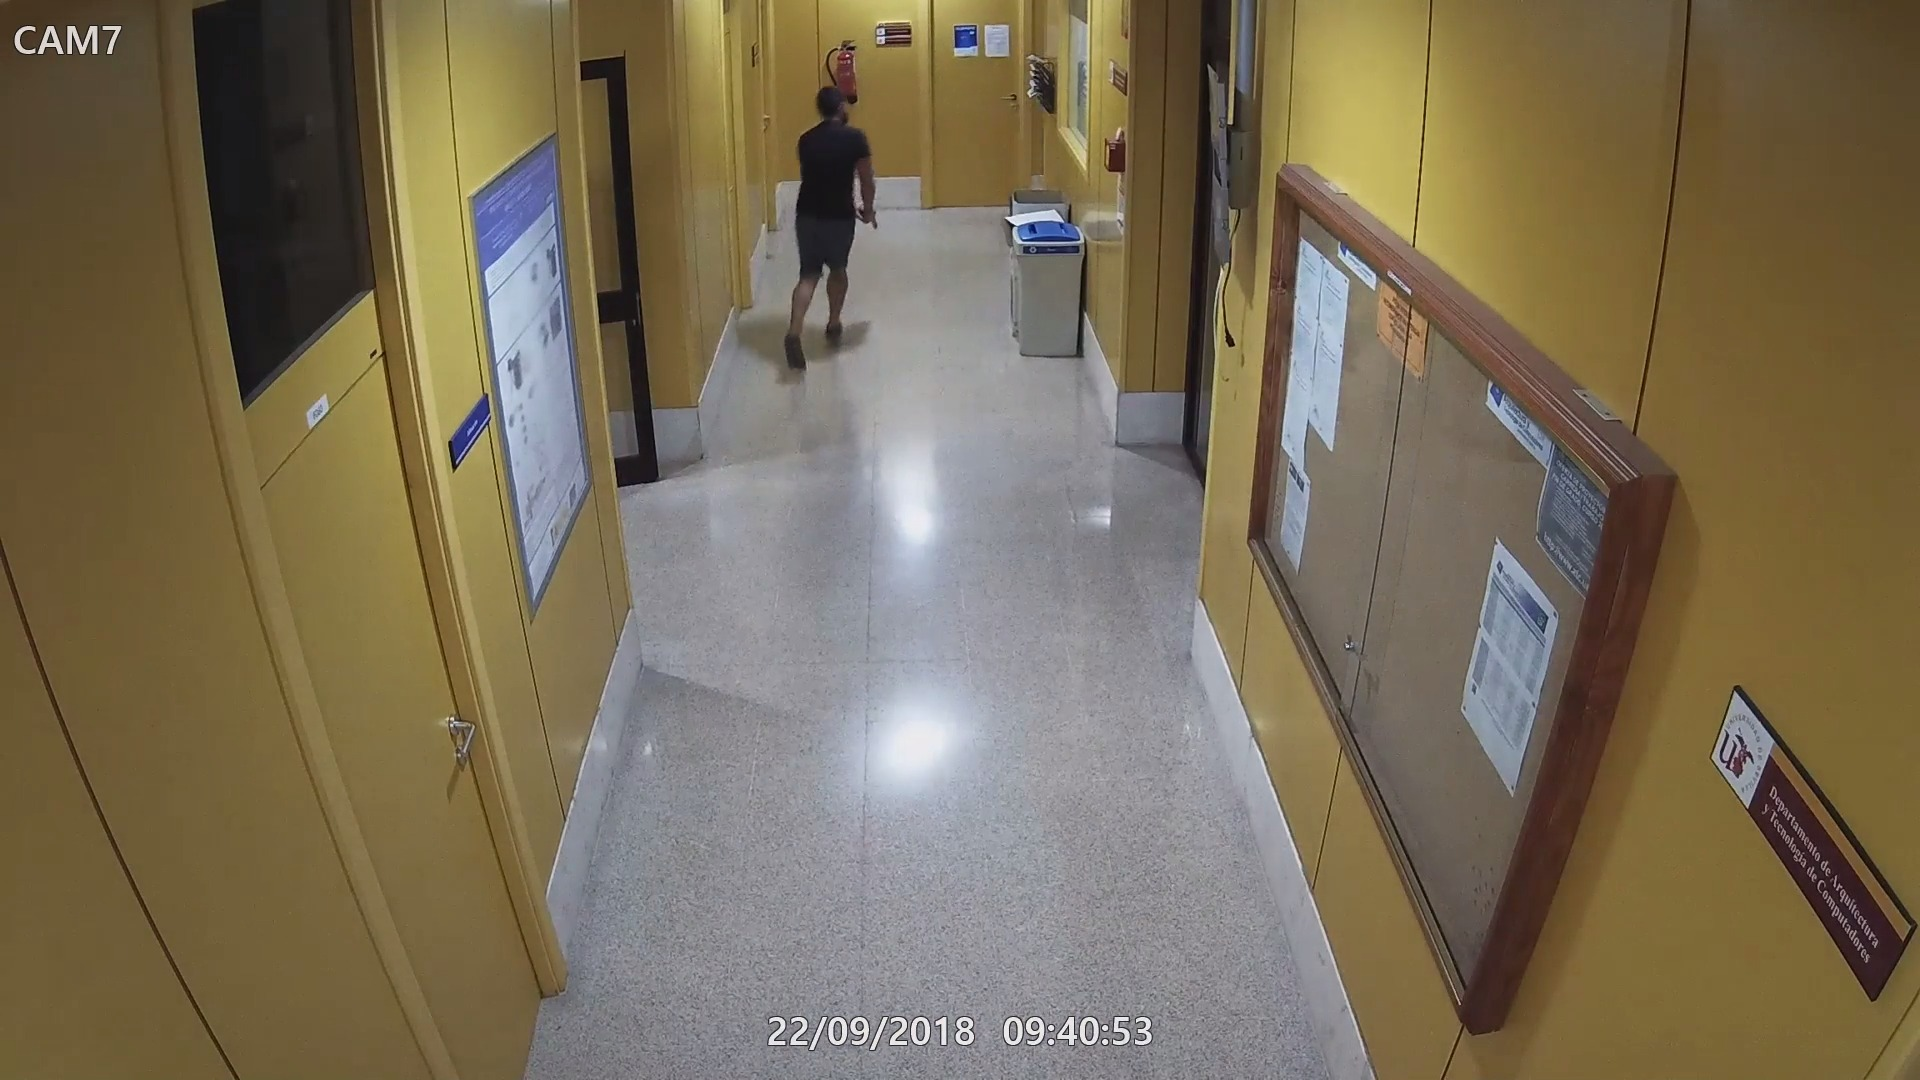Handgun: (856, 200, 884, 229)
